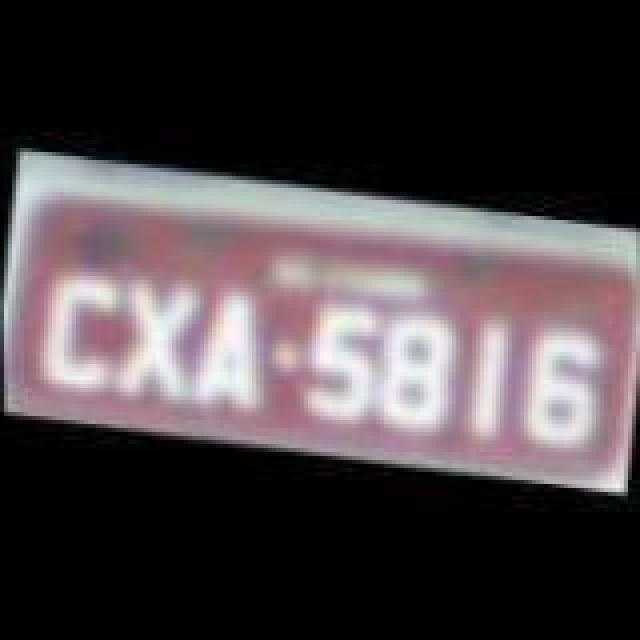1: (456, 310, 528, 450)
5: (290, 298, 386, 426)
6: (508, 322, 620, 462)
8: (368, 306, 468, 438)
A: (188, 290, 280, 422)
C: (30, 264, 134, 400)
X: (108, 270, 208, 406)
